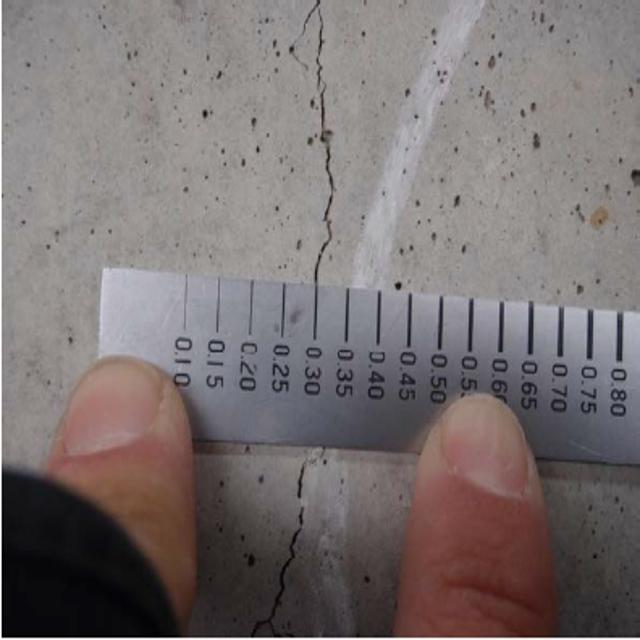crack: (276, 4, 348, 287), (236, 450, 340, 640)
